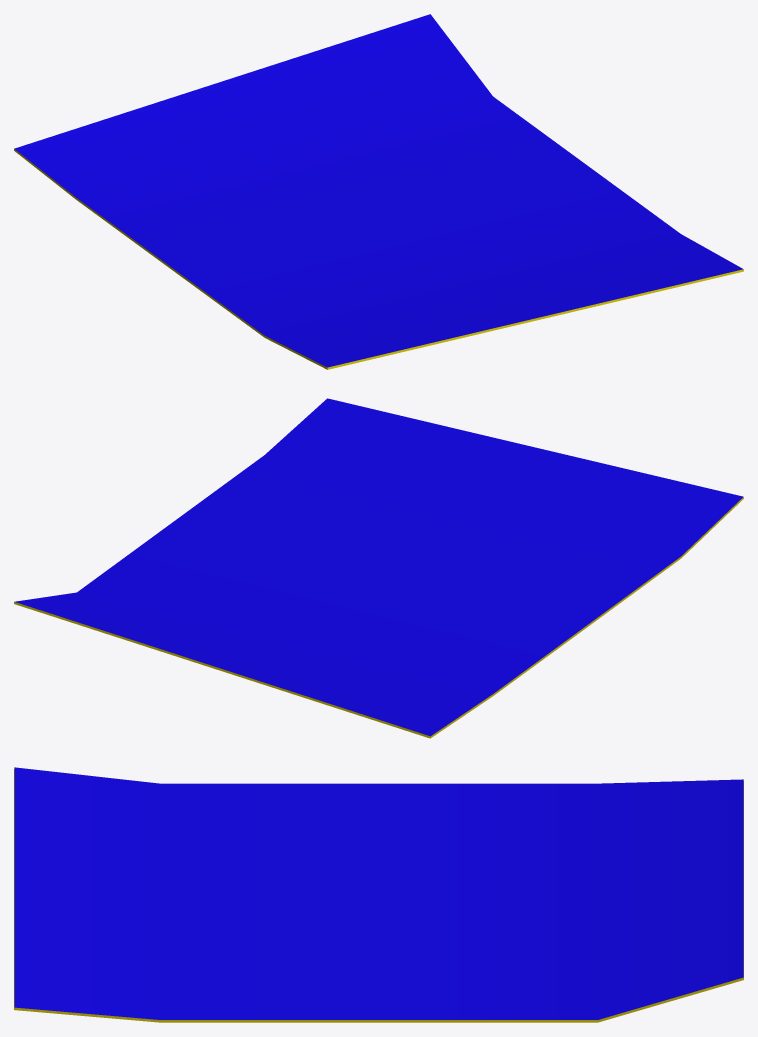
Rendered from Feuille.fbx.
3 views of the same model, one above another, from view 1: azimuth 30°, elevation 25°; view 2: azimuth 150°, elevation 25°; view 3: azimuth 270°, elevation 25° (orthographic). The views are drawn at different scales.
Visible parts, largest first — view 1: Plane; view 2: Plane; view 3: Plane.
Part boxes in pixels (x1,y1,x2,y2): Plane: (14, 14, 743, 369); Plane: (14, 398, 743, 738); Plane: (14, 767, 743, 1022).
Size of the model in its own units: 2 by 0.1779 by 2.61.
